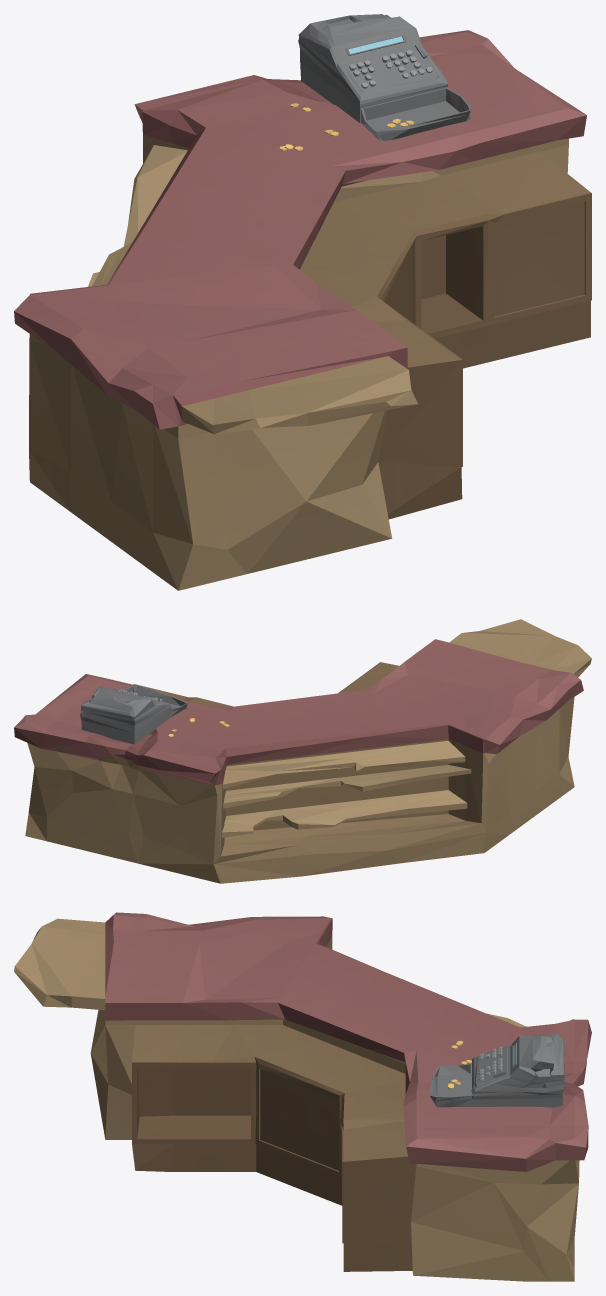
File: counter.obj
The picture shows the model from 3 angles, top to bottom: view 1: azimuth 30°, elevation 25°; view 2: azimuth 150°, elevation 25°; view 3: azimuth 270°, elevation 25°; orthographic projection. The views are drawn at different scales.
Parts seen in each view (by area): view 1: counter_Mesh, cash_machine_Mesh; view 2: counter_Mesh, cash_machine_Mesh; view 3: counter_Mesh, cash_machine_Mesh.
Boxes of the visible parts, box(x1,y1,x2,y2) form: counter_Mesh: box(14, 30, 591, 590); cash_machine_Mesh: box(298, 14, 470, 141); counter_Mesh: box(14, 619, 591, 883); cash_machine_Mesh: box(80, 685, 187, 744); counter_Mesh: box(14, 912, 591, 1281); cash_machine_Mesh: box(429, 1034, 565, 1107).
Bounding box in the file's own units: 2.43 × 0.9146 × 2.52.
